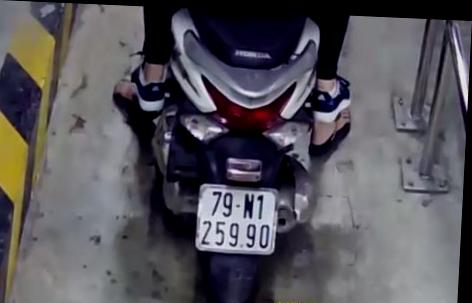License_Plate: (185, 178, 286, 262)
